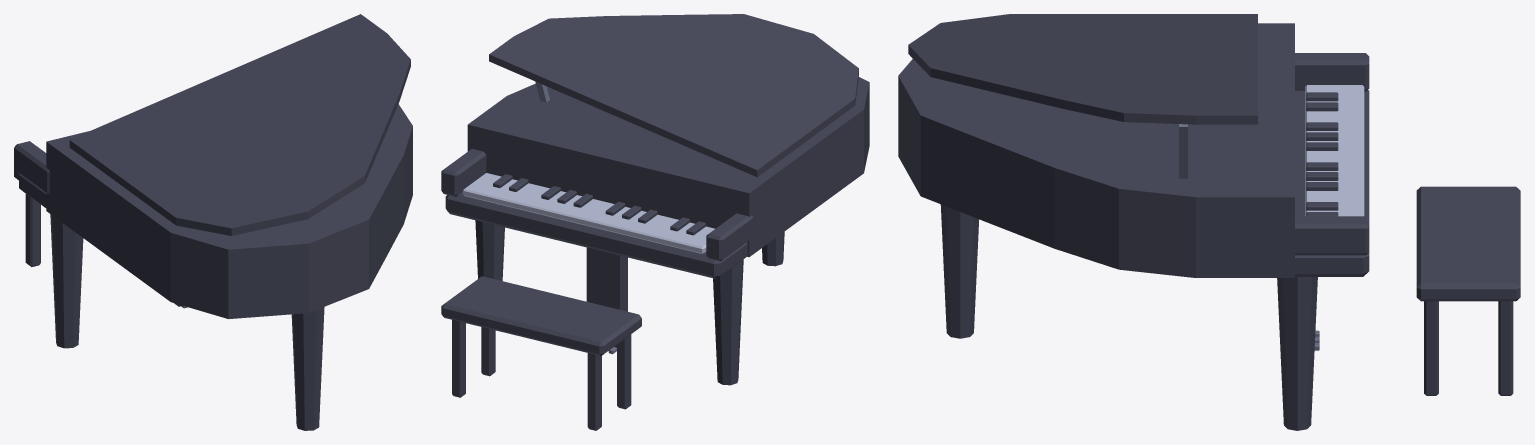
Rendered from GrandPiano.fbx.
3 renders of one model, left to right at view 1: azimuth 30°, elevation 25°; view 2: azimuth 150°, elevation 25°; view 3: azimuth 270°, elevation 25°, orthographic. The views are drawn at different scales.
Visible parts, largest first — view 1: Piano_Case; view 2: Piano_Case, Piano_Keys; view 3: Piano_Case, Piano_Keys, Piano_Brass.
Boxes of the visible parts, x1,y1,x2,y2 form: Piano_Case: (14,14,412,430); Piano_Case: (441,14,869,430); Piano_Keys: (463,173,714,253); Piano_Case: (898,14,1520,430); Piano_Keys: (1305,85,1364,216); Piano_Brass: (1179,124,1319,350).
Size of the model in its own units: 1.67 by 1.42 by 2.51.
